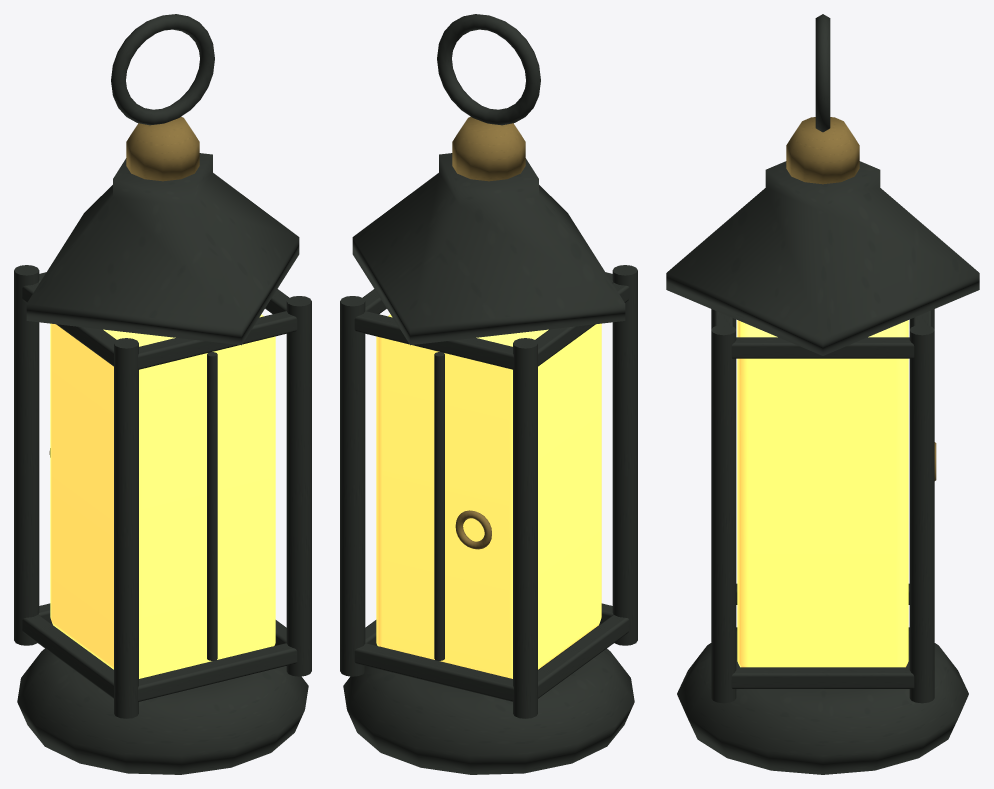
The model's file is farol.glb.
3 views of the same model, side by side, from view 1: azimuth 30°, elevation 25°; view 2: azimuth 150°, elevation 25°; view 3: azimuth 270°, elevation 25° (orthographic).
Visible parts, largest first — view 1: farol; view 2: farol; view 3: farol.
Boxes of the visible parts, x1,y1,x2,y2 form: farol: (14,14,311,774); farol: (340,14,637,774); farol: (666,14,979,774).
Size of the model in its own units: 0.3 by 0.738 by 0.3.
Materials: 1 (1 with a texture image).
